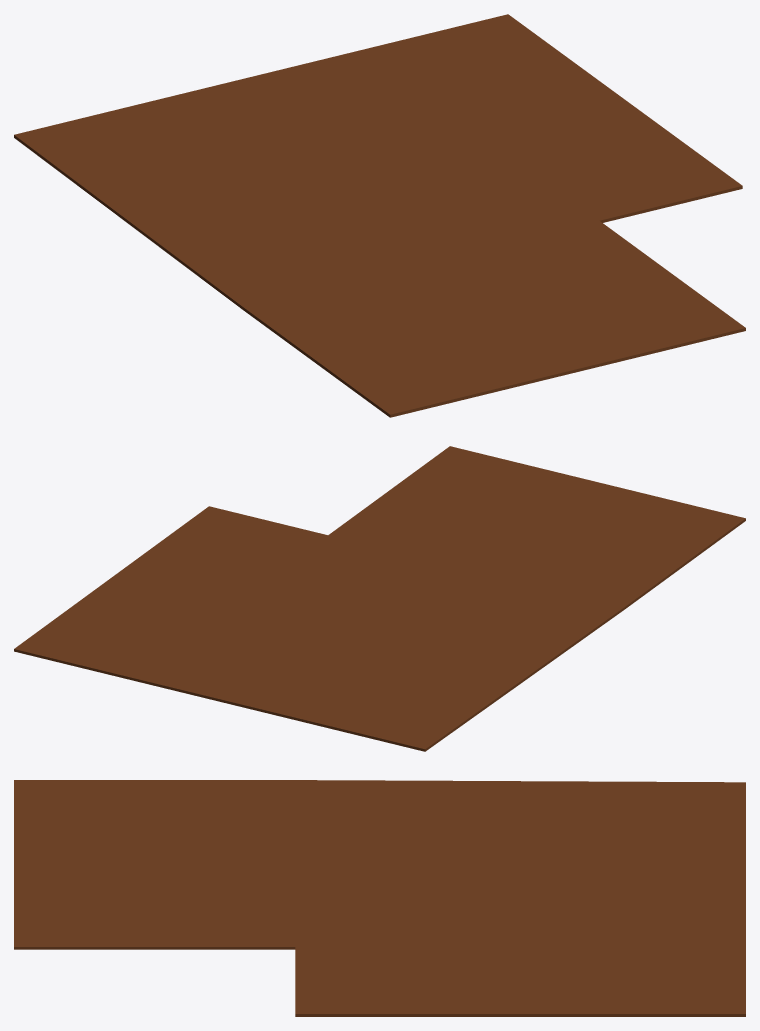
The model's file is sous_le_sol.fbx.
The picture shows the model from 3 angles, top to bottom: view 1: azimuth 30°, elevation 25°; view 2: azimuth 150°, elevation 25°; view 3: azimuth 270°, elevation 25°; orthographic projection. The views are drawn at different scales.
Visible parts, largest first — view 1: sous le sol; view 2: sous le sol; view 3: sous le sol.
Part boxes in pixels (x1,y1,x2,y2): sous le sol: [14, 14, 745, 417]; sous le sol: [14, 446, 745, 751]; sous le sol: [14, 780, 745, 1016].
Bounding box in the file's own units: 1453 × 8.46 × 1921.
